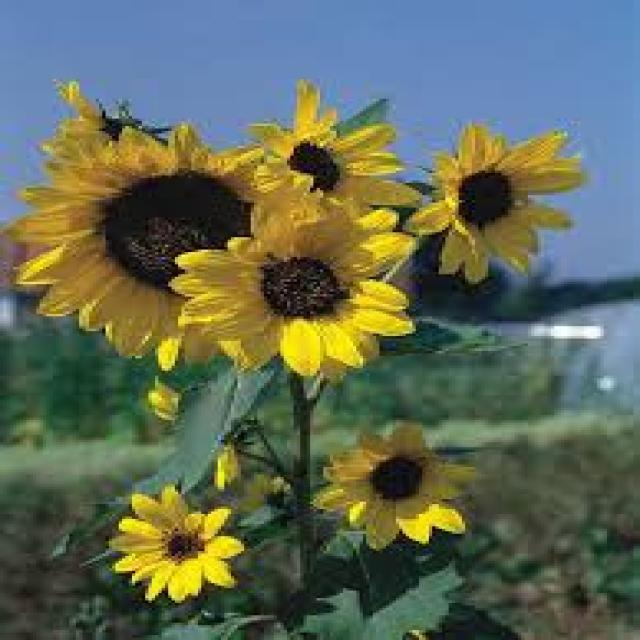sunflower: (6, 113, 332, 372), (157, 180, 440, 387), (237, 71, 435, 249), (400, 110, 588, 284), (8, 71, 178, 248), (308, 414, 488, 566), (103, 483, 256, 610), (134, 371, 262, 488)
